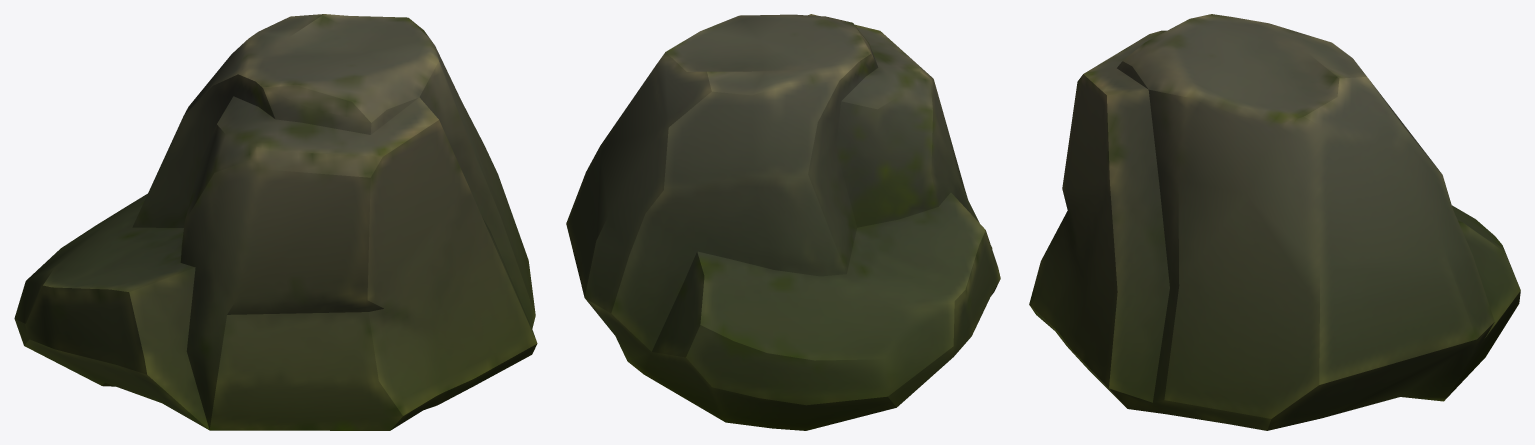
The picture shows the model from 3 angles, left to right: view 1: azimuth 30°, elevation 25°; view 2: azimuth 150°, elevation 25°; view 3: azimuth 270°, elevation 25°; orthographic projection. The views are drawn at different scales.
Parts seen in each view (by area): view 1: 9678504fb056fd99a119b012077afeaec4811155a0f2843867f669fbe6c2; view 2: 9678504fb056fd99a119b012077afeaec4811155a0f2843867f669fbe6c2; view 3: 9678504fb056fd99a119b012077afeaec4811155a0f2843867f669fbe6c2.
Part boxes in pixels (x1,y1,x2,y2): 9678504fb056fd99a119b012077afeaec4811155a0f2843867f669fbe6c2: (14,14,537,430); 9678504fb056fd99a119b012077afeaec4811155a0f2843867f669fbe6c2: (566,14,1000,430); 9678504fb056fd99a119b012077afeaec4811155a0f2843867f669fbe6c2: (1029,14,1520,430).
Bounding box in the file's own units: 3.23 × 2.26 × 2.99.
1 material, 1 textured.
